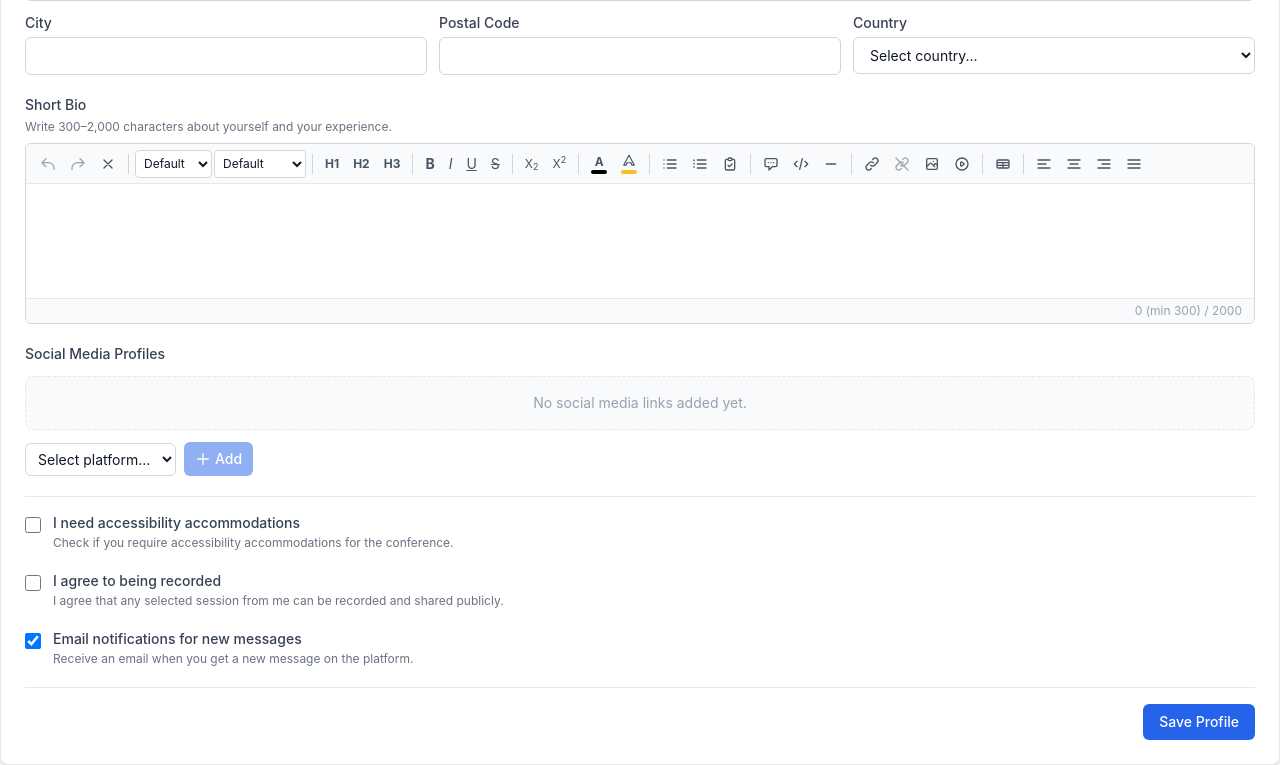
Test: ProfilePage › form submission › shows Save failed feedback when the API errors
(page scrolled)
Click the button "Save Profile".
click(1199, 722)  # box [1143, 704, 1255, 740]
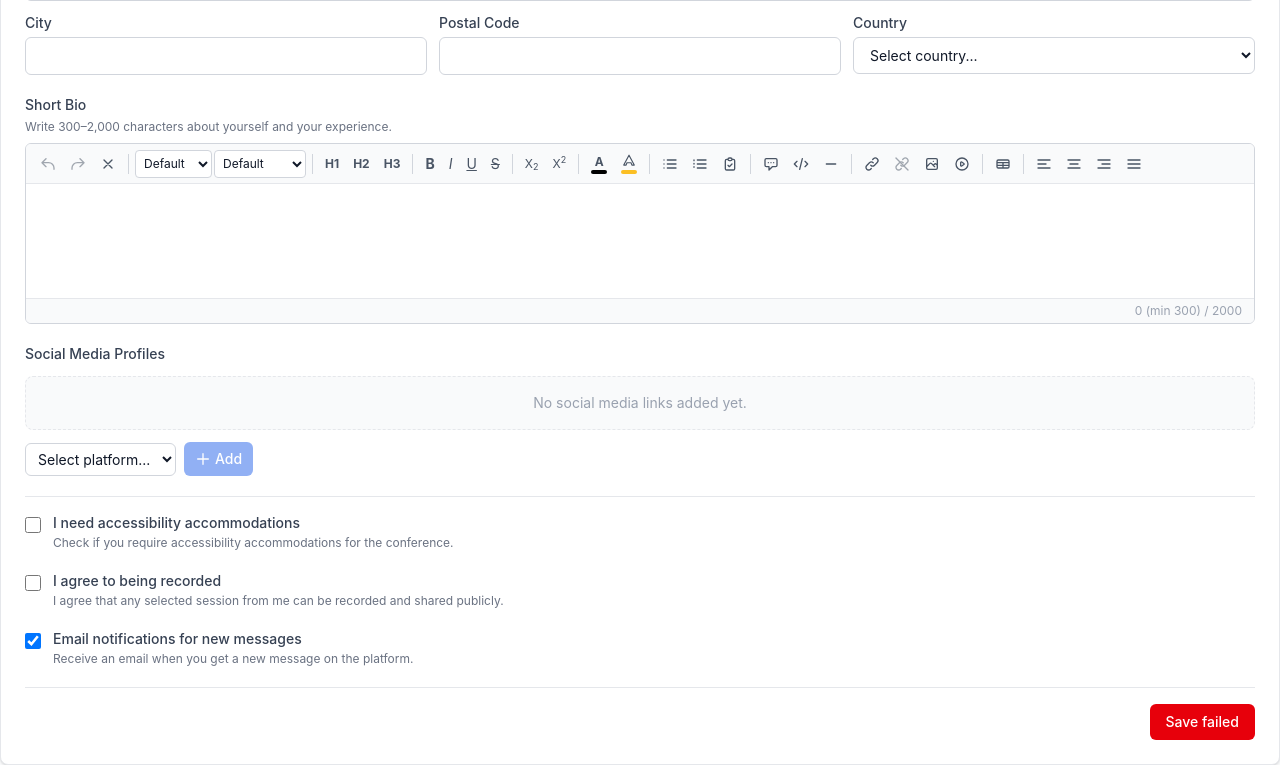
Expected: the button "Save failed" is shown, [1150, 704, 1255, 740]
